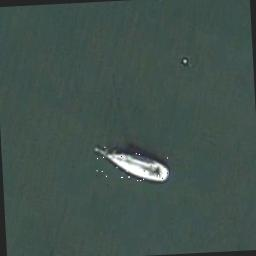boat: (92, 142, 169, 186)
